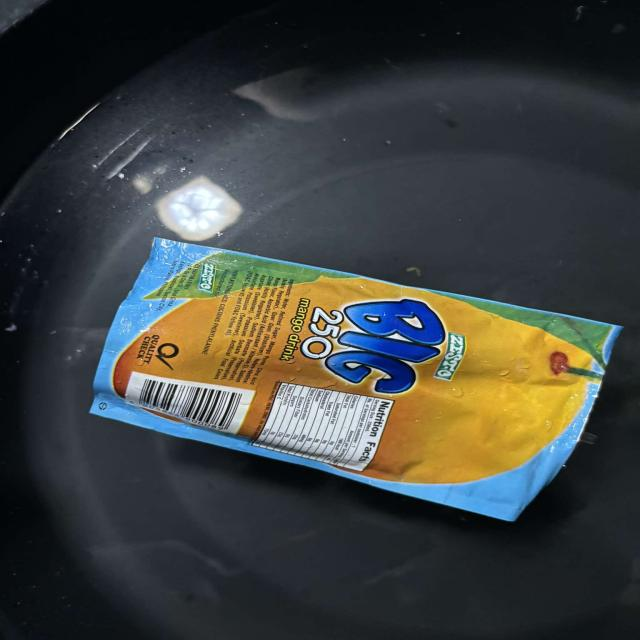Plastic Pouch: (78, 231, 630, 523)
